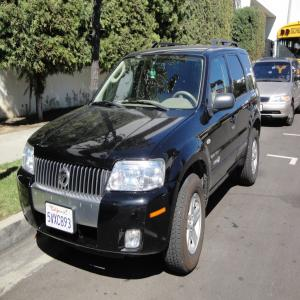Vehicle-registration-plate: (45, 203, 75, 236), (261, 103, 264, 114)
